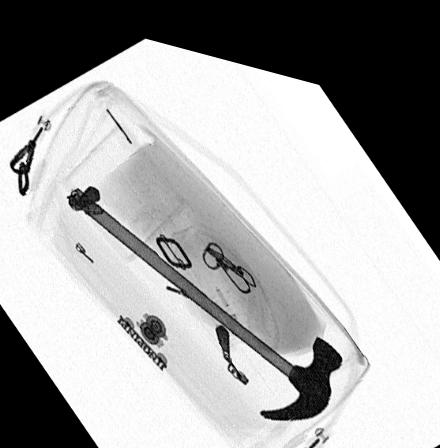Hammer: (68, 183, 343, 406)
